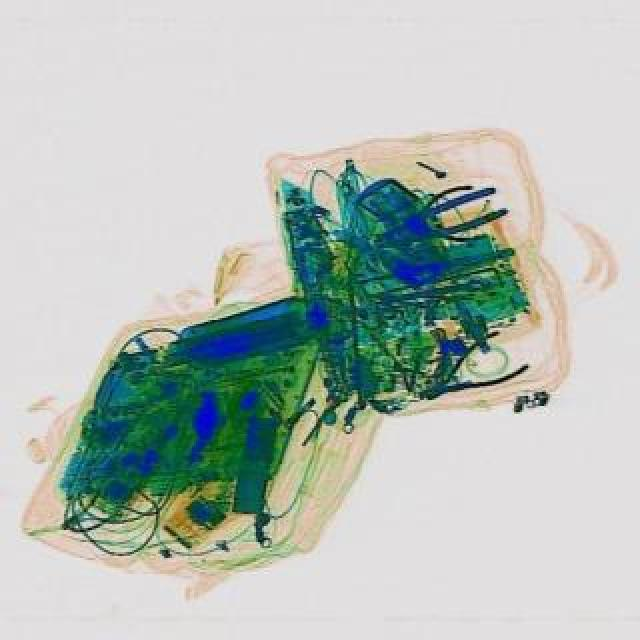scissors: (376, 276, 482, 304)
wrench: (408, 324, 530, 420), (368, 182, 508, 254), (380, 182, 488, 262)
